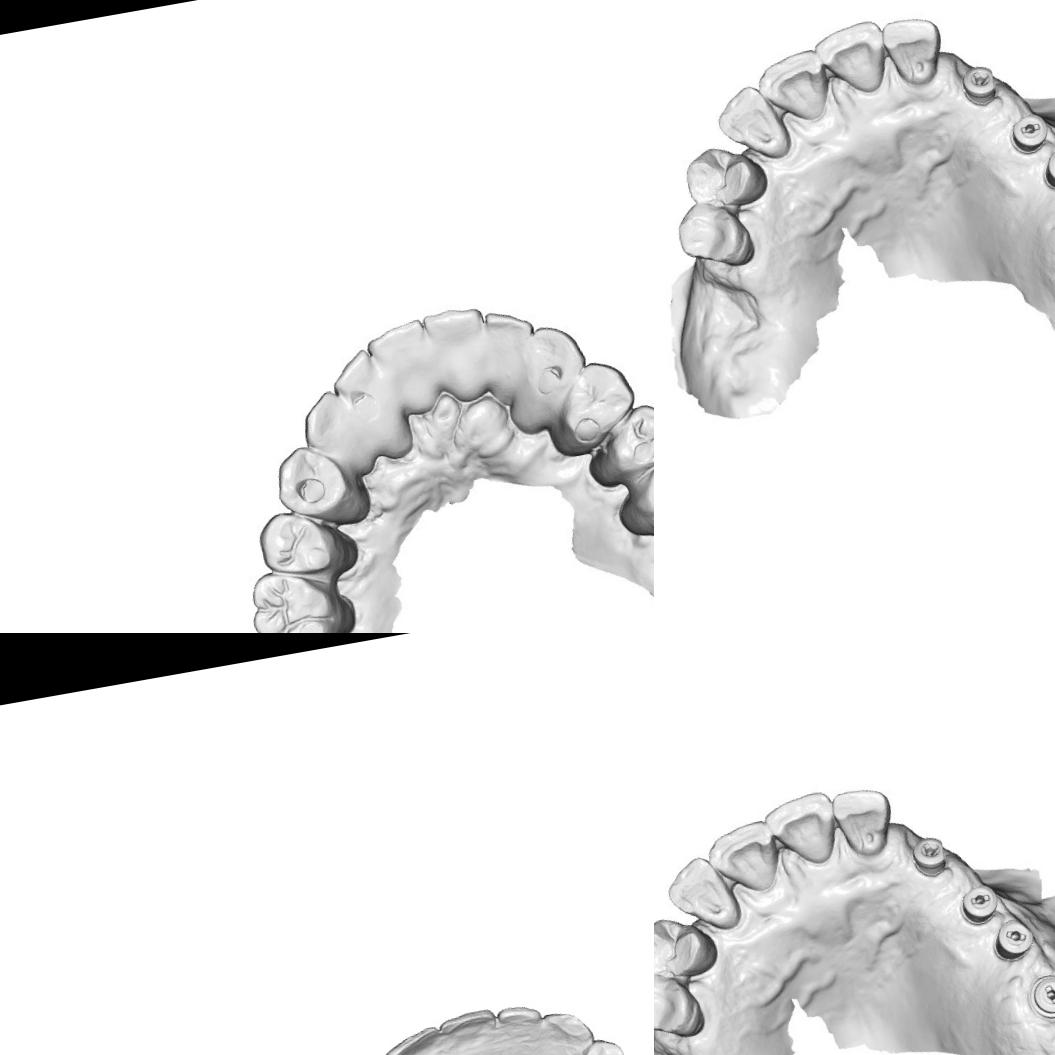canine: (713, 80, 793, 162), (663, 852, 743, 934), (300, 388, 365, 462), (524, 321, 584, 386), (538, 1004, 599, 1055)
implant_minus: (986, 913, 1042, 964), (951, 879, 1004, 927), (1002, 108, 1054, 156), (1022, 966, 1055, 1018), (1036, 142, 1055, 193)
implant_plus: (954, 61, 1004, 106), (904, 832, 954, 877)
incisor: (703, 820, 781, 897), (810, 19, 889, 94), (753, 50, 831, 125), (760, 790, 838, 865), (419, 304, 491, 376), (881, 12, 947, 90), (831, 782, 897, 860), (367, 316, 432, 382), (330, 350, 386, 410), (482, 306, 536, 367), (435, 1003, 500, 1050), (494, 999, 548, 1050), (377, 1023, 446, 1055)
molar: (244, 565, 348, 633), (634, 444, 654, 537)
premolar: (549, 355, 641, 444), (270, 444, 354, 522), (683, 141, 771, 212), (672, 198, 755, 270), (257, 507, 336, 576), (654, 912, 721, 983), (654, 969, 705, 1041), (605, 402, 654, 472), (563, 1032, 634, 1055)
